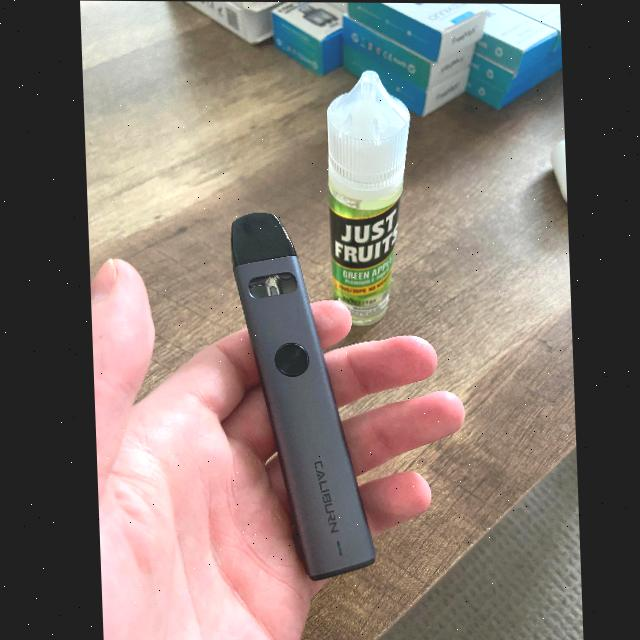vape: (226, 209, 375, 578)
